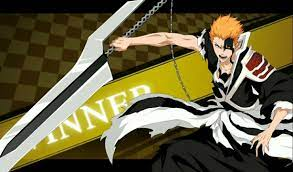Ichigo: (210, 16, 240, 61)
